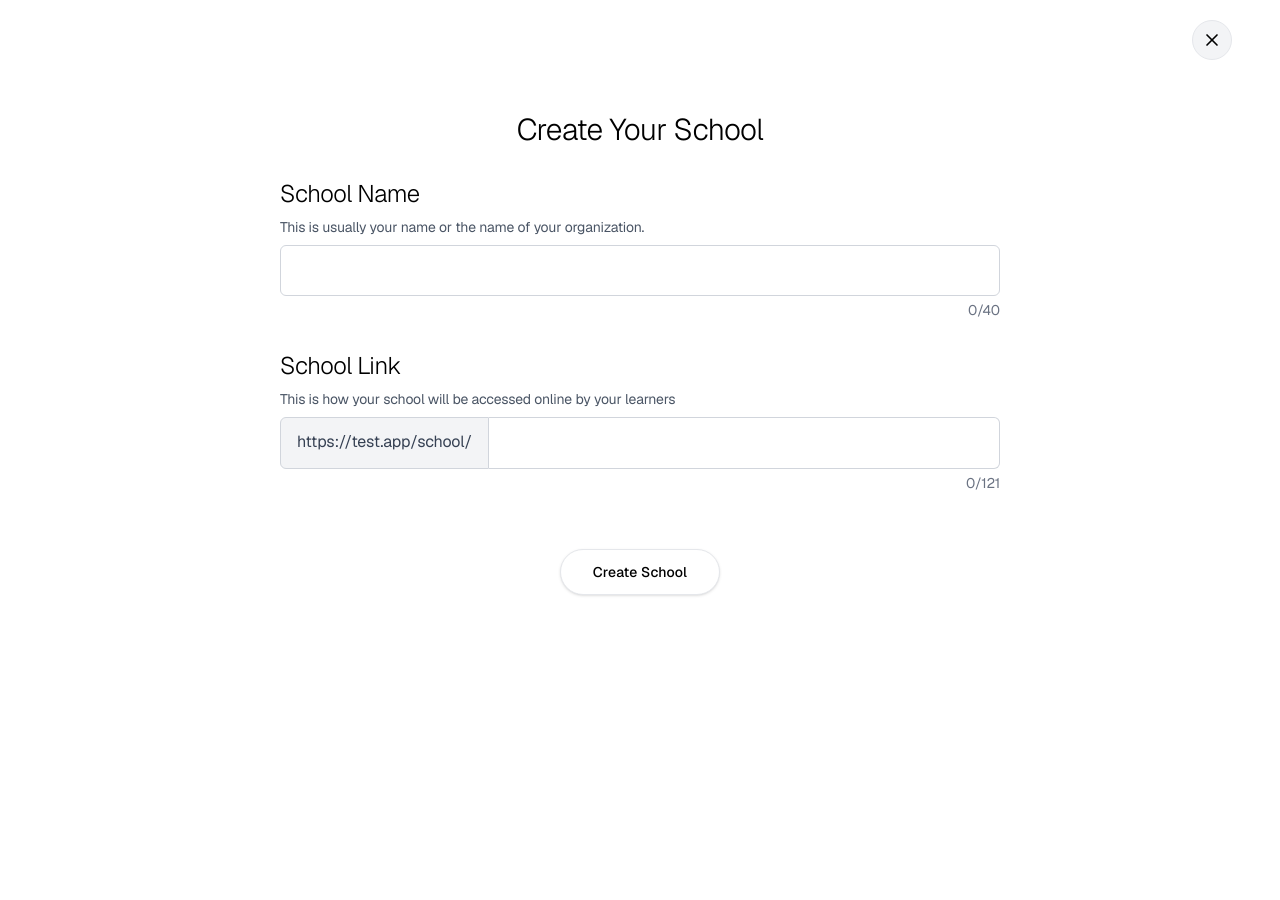
Scenario: CreateSchool Page › Form Submission › should handle successful form submission
// Fill in form
Type "Test School" into the 1st field.
click(640, 271); type("Test School")  # box [280,245,1000,296]
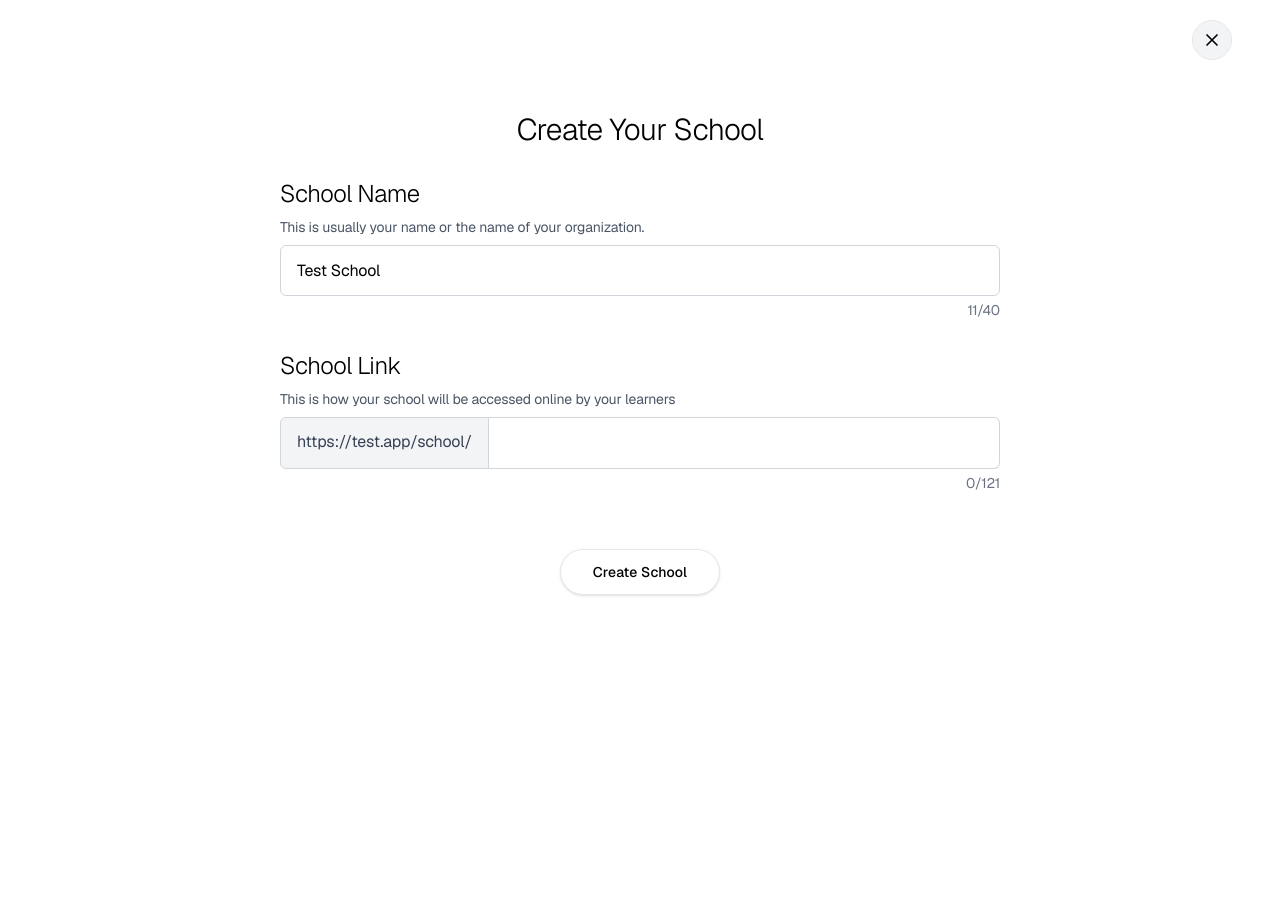
Type "test-school" into the field with id "slug".
click(744, 443); type("test-school")  # box [489,417,1000,469]
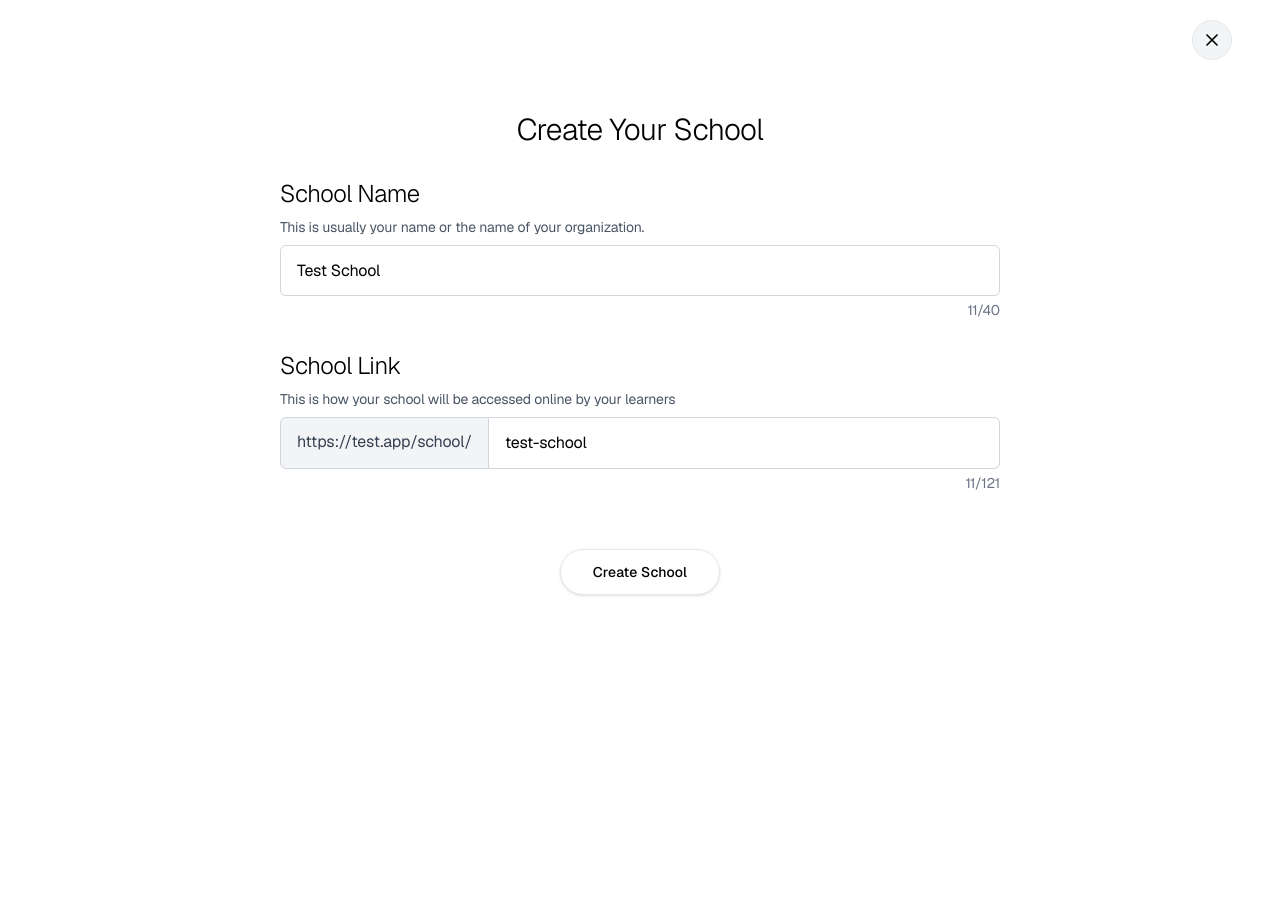
// Submit form
Click the button "Create School".
click(640, 572)  # box [560,549,720,595]
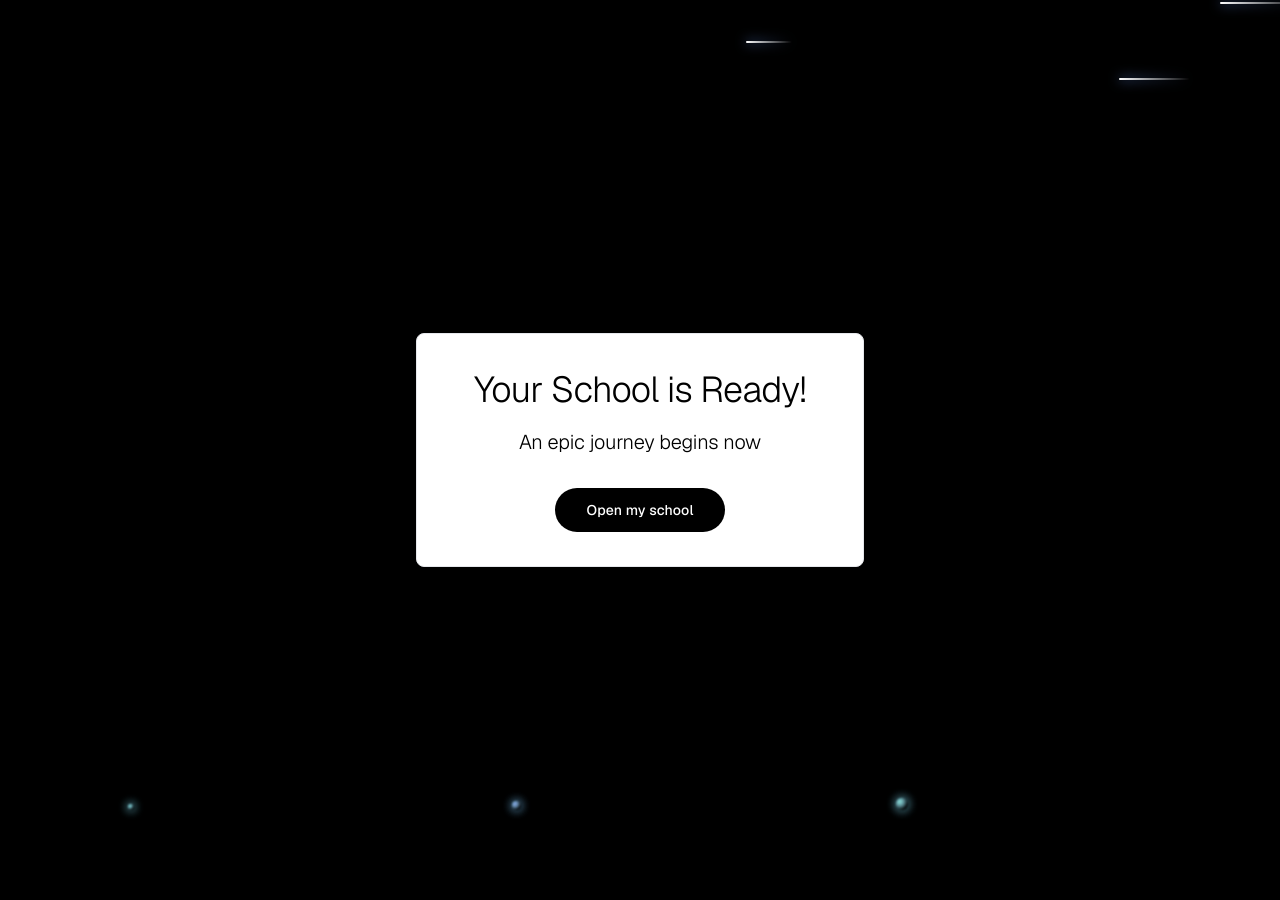
Expected: the heading "Your School is Ready!" is shown, [474,368,806,412]
Expected: the text "An epic journey begins now" is shown, [519,428,761,456]
Expected: the button "Open my school" is shown, [554,488,725,532]
